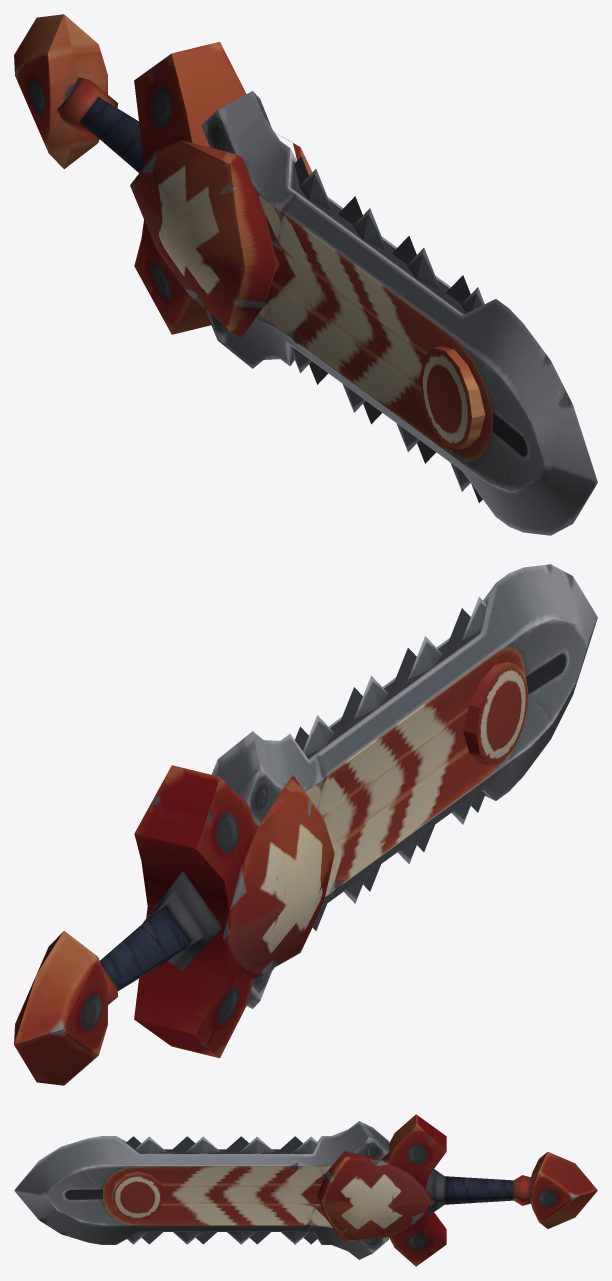
The model's file is model_medicalsword-r3.glb.
3 views of the same model, one above another, from view 1: azimuth 30°, elevation 25°; view 2: azimuth 150°, elevation 25°; view 3: azimuth 270°, elevation 25° (orthographic). The views are drawn at different scales.
Visible parts, largest first — view 1: calibur.model_medicalsword-r3-MeshNodes["medicalsword_r3"], calibur.model_medicalsword-r3-MeshNodes["blades2"], calibur.model_medicalsword-r3-MeshNodes["blades1"]; view 2: calibur.model_medicalsword-r3-MeshNodes["medicalsword_r3"], calibur.model_medicalsword-r3-MeshNodes["blades2"], calibur.model_medicalsword-r3-MeshNodes["blades1"]; view 3: calibur.model_medicalsword-r3-MeshNodes["medicalsword_r3"], calibur.model_medicalsword-r3-MeshNodes["blades1"], calibur.model_medicalsword-r3-MeshNodes["blades2"].
Part boxes in pixels (<box>): calibur.model_medicalsword-r3-MeshNodes["medicalsword_r3"]: <box>14,14,597,535</box>; calibur.model_medicalsword-r3-MeshNodes["blades2"]: <box>299,169,484,502</box>; calibur.model_medicalsword-r3-MeshNodes["blades1"]: <box>292,157,470,491</box>; calibur.model_medicalsword-r3-MeshNodes["medicalsword_r3"]: <box>14,564,597,1085</box>; calibur.model_medicalsword-r3-MeshNodes["blades2"]: <box>303,597,486,930</box>; calibur.model_medicalsword-r3-MeshNodes["blades1"]: <box>295,608,474,903</box>; calibur.model_medicalsword-r3-MeshNodes["medicalsword_r3"]: <box>14,1114,597,1266</box>; calibur.model_medicalsword-r3-MeshNodes["blades1"]: <box>135,1136,317,1244</box>; calibur.model_medicalsword-r3-MeshNodes["blades2"]: <box>126,1136,308,1244</box>.
Size of the model in its own units: 0.2405 by 0.4679 by 1.76.
Materials: 1 (1 with a texture image).
